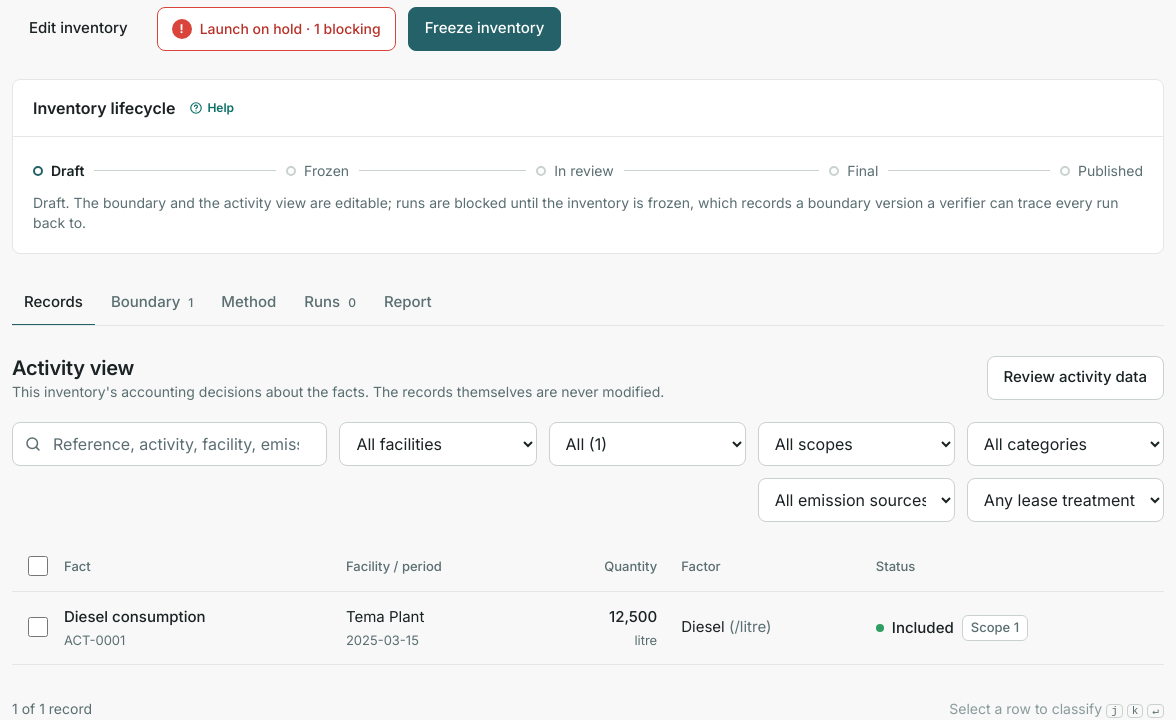
Test: the register reads as one line a row and opens the record beside it (spec 05.6, spec 10)
This screenshot has width=1176, height=720.
(page scrolled)
Click the button "Diesel consumption". click: (135, 617)
box: [64,606,206,628]
(page scrolled)
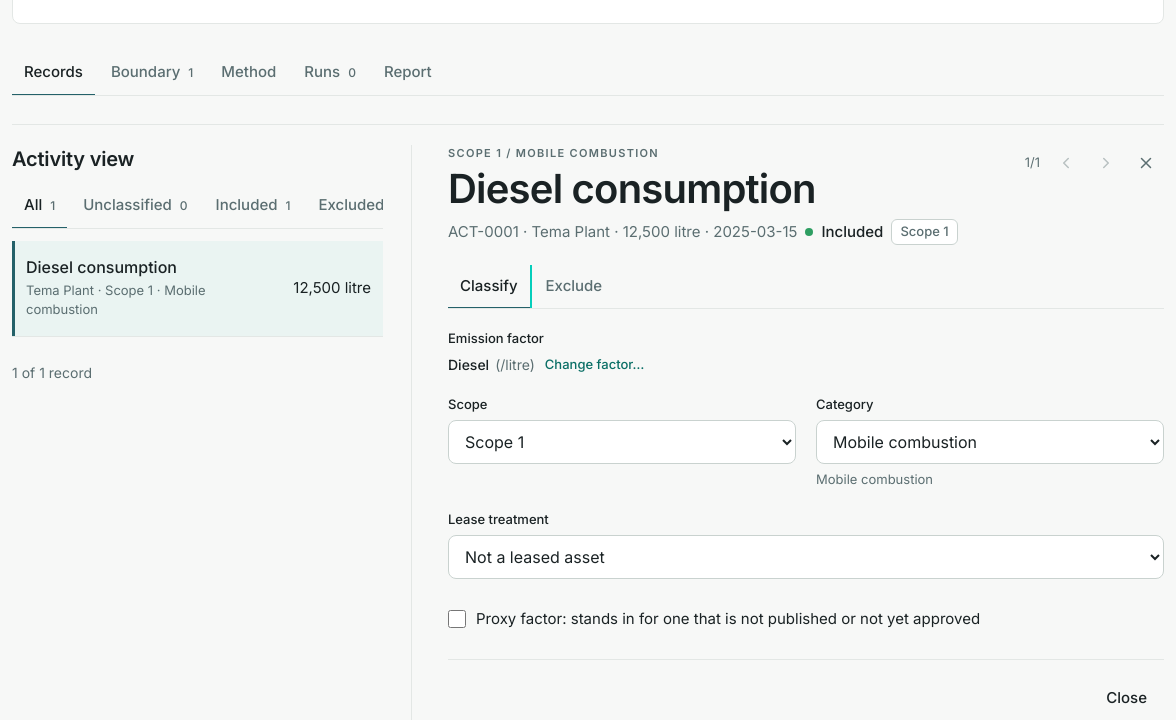
Expected: the element "Diesel consumption" is shown, [412,144,1164,719]
Expected: the element "Activity view" is shown, [12,144,412,719]
Expected: the table is gone
Press Escape
(page scrolled)
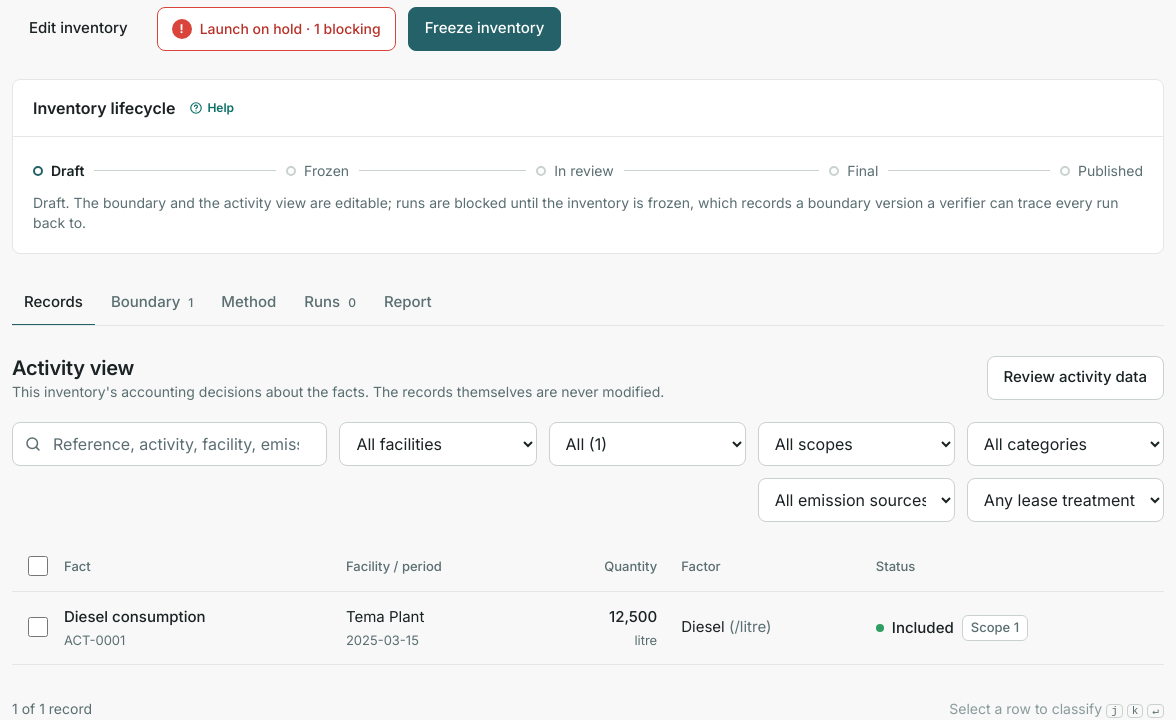
Expected: the table is shown, [12,542,1164,665]
